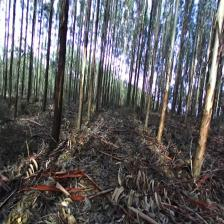trunk: (192, 27, 224, 175), (49, 0, 70, 144), (156, 52, 173, 142), (76, 51, 87, 129), (144, 60, 155, 127), (27, 20, 36, 100), (87, 49, 96, 119), (41, 38, 50, 108), (8, 26, 14, 101)
